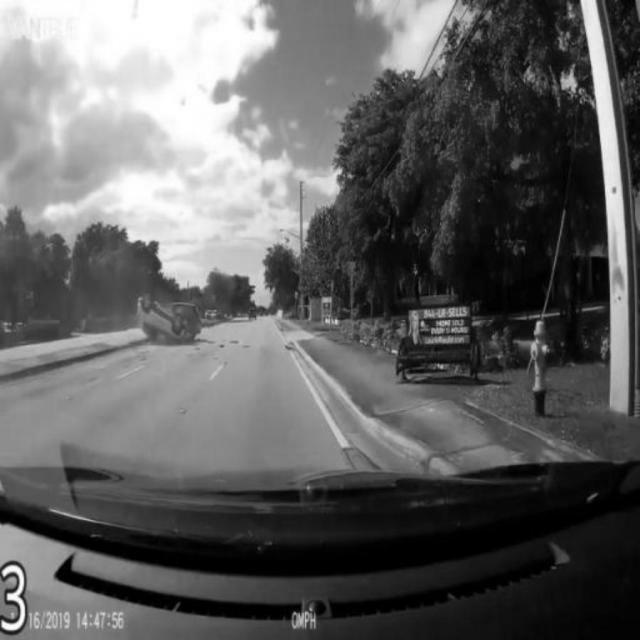accident: (128, 295, 208, 345)
